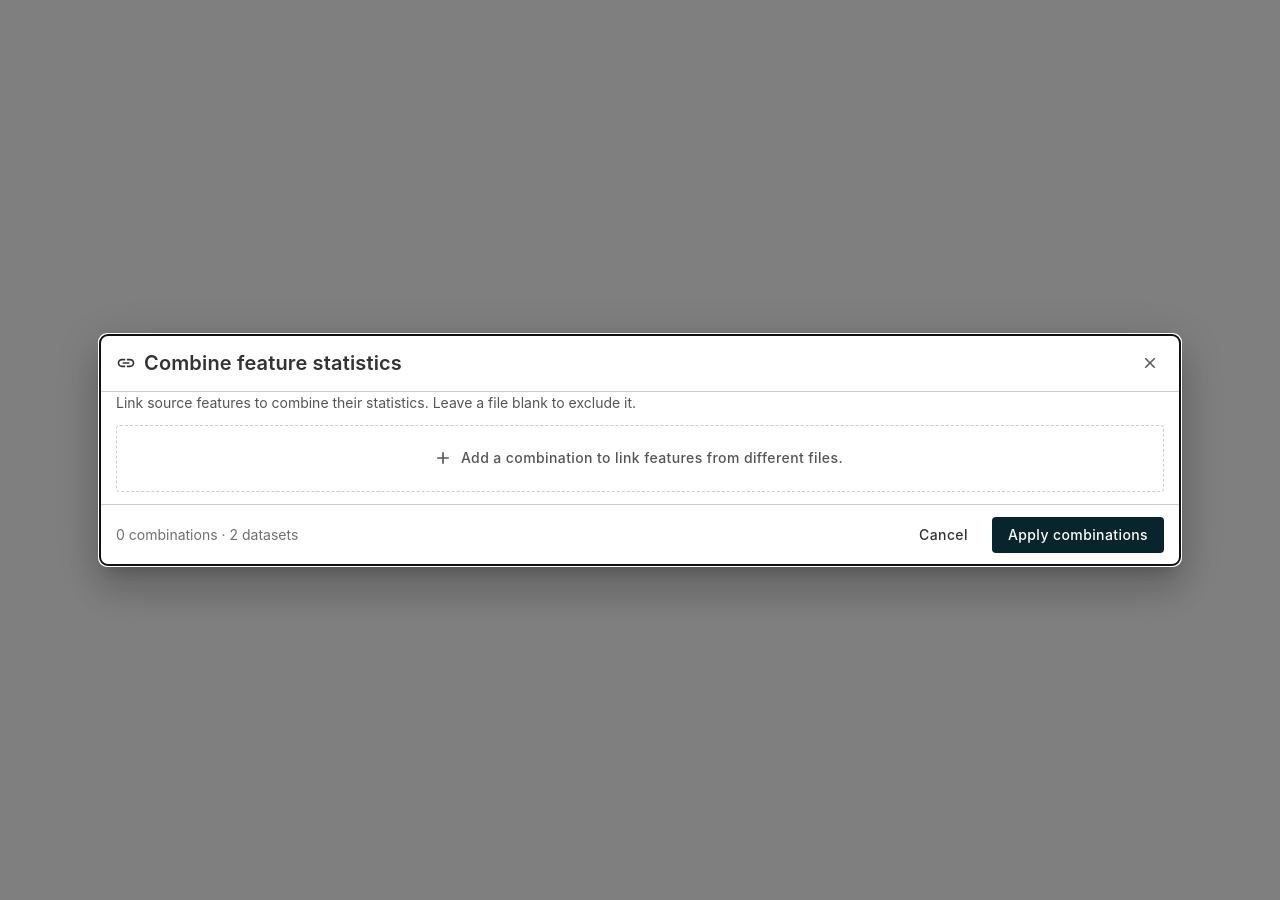
adds and focuses a combination from the clickable empty state
Step 1. Click the button "Add a combination to link features from different files." → (640, 458), box [116,425,1164,492]
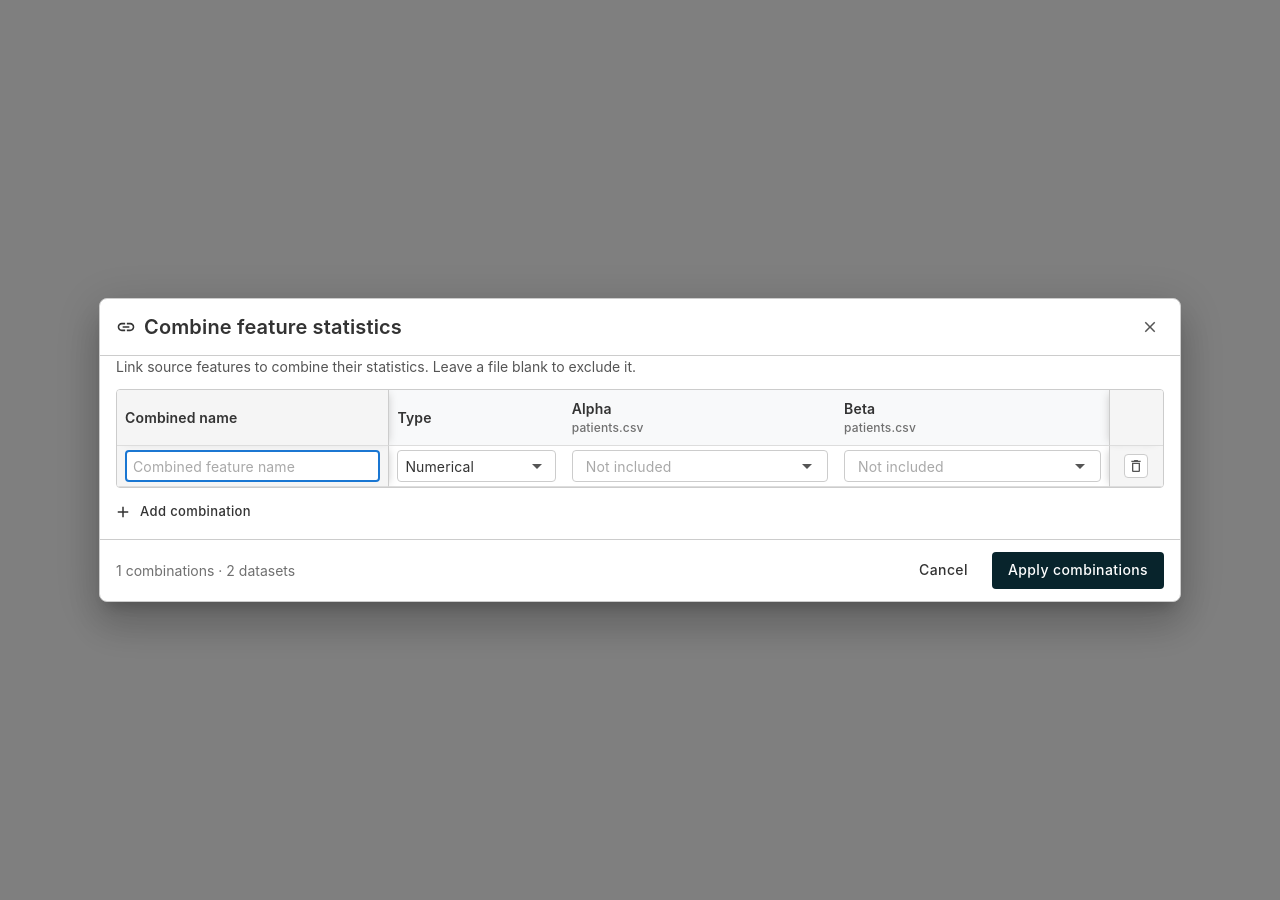
Expected: the table named "Feature combinations across files" is shown, [117,390,1163,487]
Step 2. Click the button named "Remove combination 1" → (1136, 466), box [1124,454,1148,478]
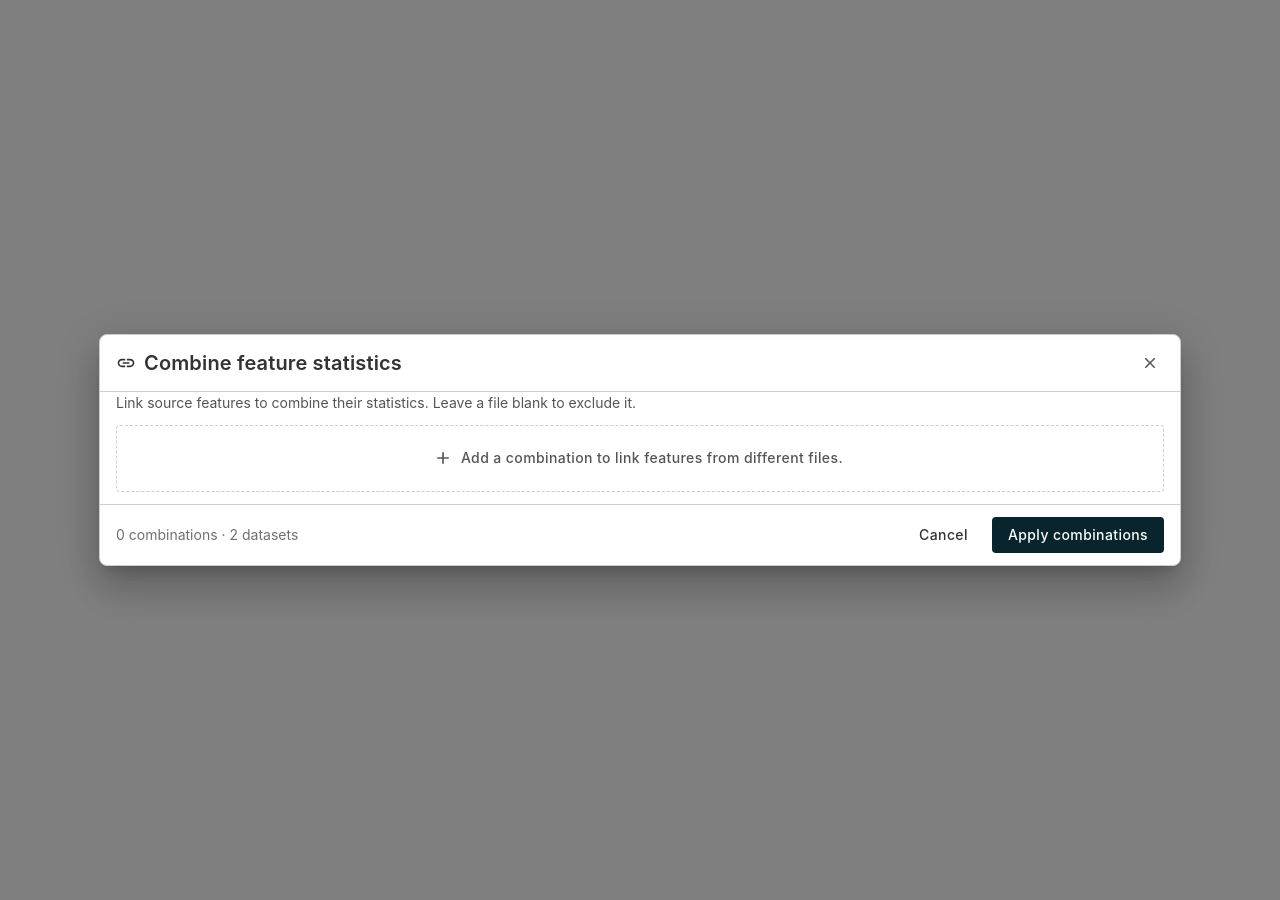
Expected: the button "Add a combination to link features from different files." is shown, [116,425,1164,492]
